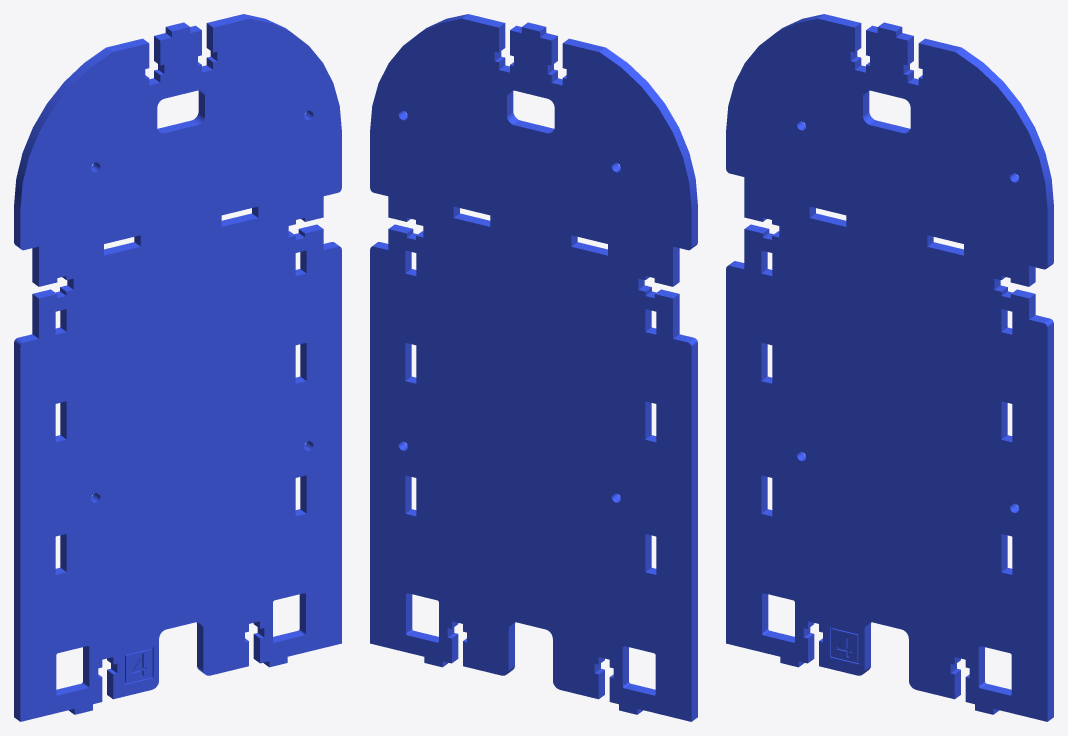
Rendered from Middle_deck.obj.
The picture shows the model from 3 angles, left to right: view 1: azimuth 30°, elevation 25°; view 2: azimuth 150°, elevation 25°; view 3: azimuth 330°, elevation 25°; orthographic projection.
Parts seen in each view (by area): view 1: Body1; view 2: Body1; view 3: Body1.
Boxes of the visible parts, x1,y1,x2,y2 form: Body1: (14,14,341,721); Body1: (370,14,697,721); Body1: (726,14,1053,721).
Size of the model in its own units: 8.75 by 17.16 by 0.3.
